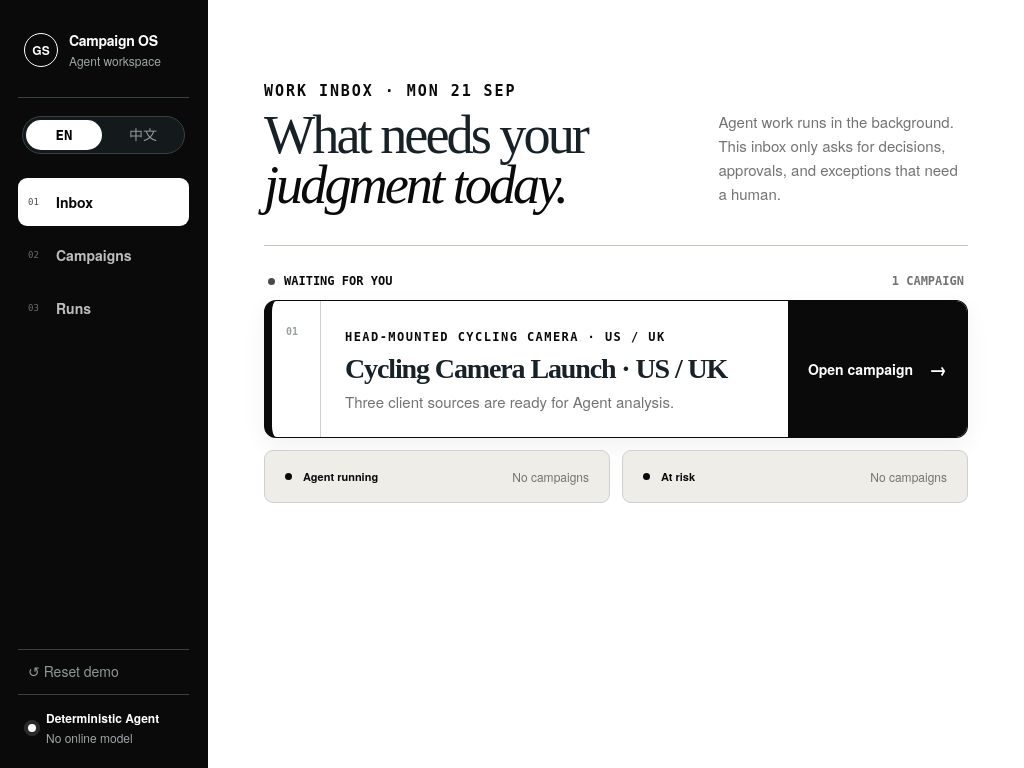
Test case: bilingual application shell › defaults to English and switches the global shell to Chinese without navigation
Click the button with aria-label "切换到中文": x=143, y=135 [105, 120, 181, 150]
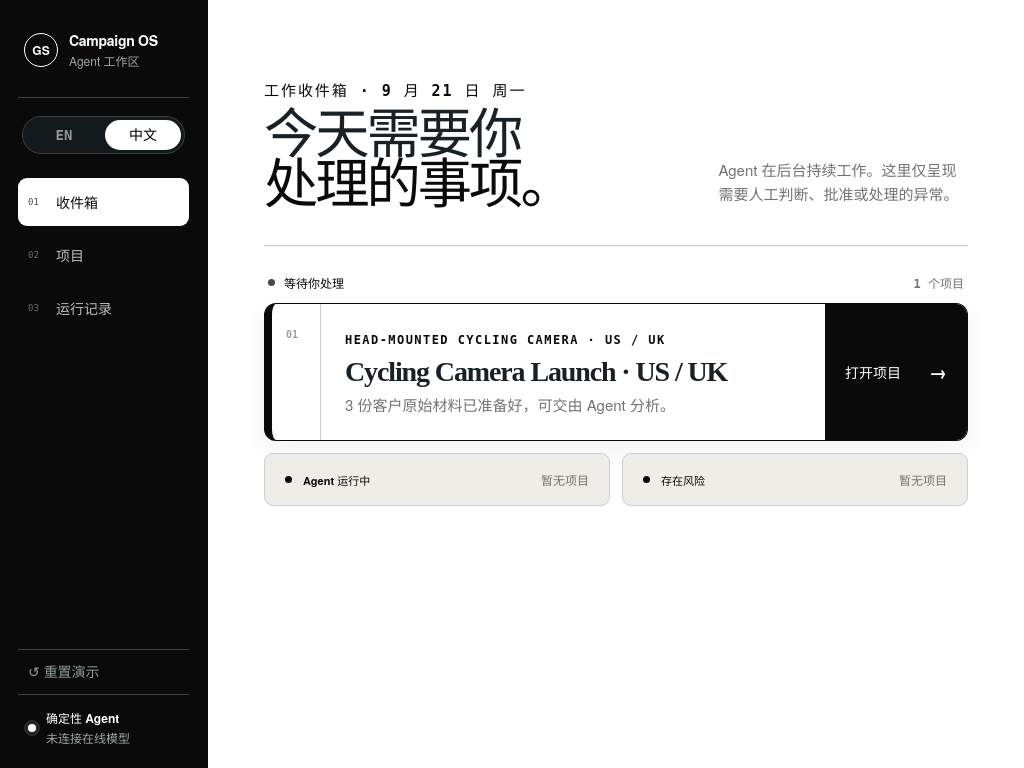
expect the text "收件箱" is shown: met, box [18, 178, 189, 226]
expect the text "重置演示" is shown: met, box [18, 649, 189, 692]
expect the text "需要你处理的事项" is shown: met, box [264, 105, 572, 215]
Click the link to "/runs": x=70, y=308 [28, 298, 112, 318]
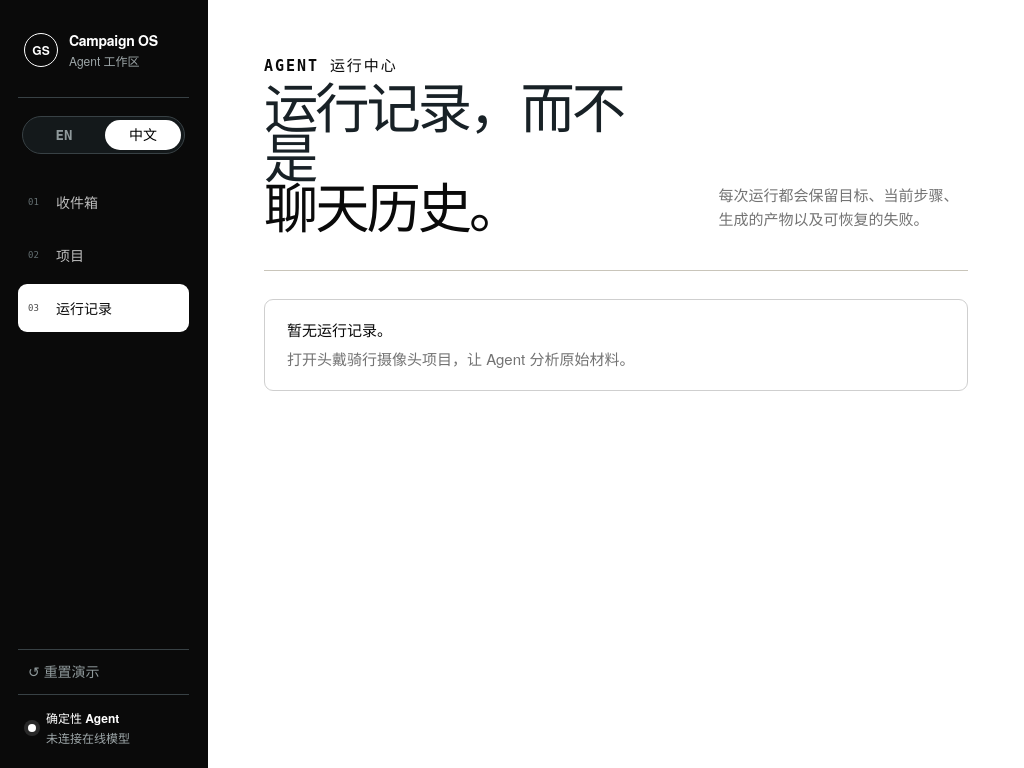
expect the text "运行记录，而不是聊天历史" is shown: met, box [264, 86, 638, 236]
